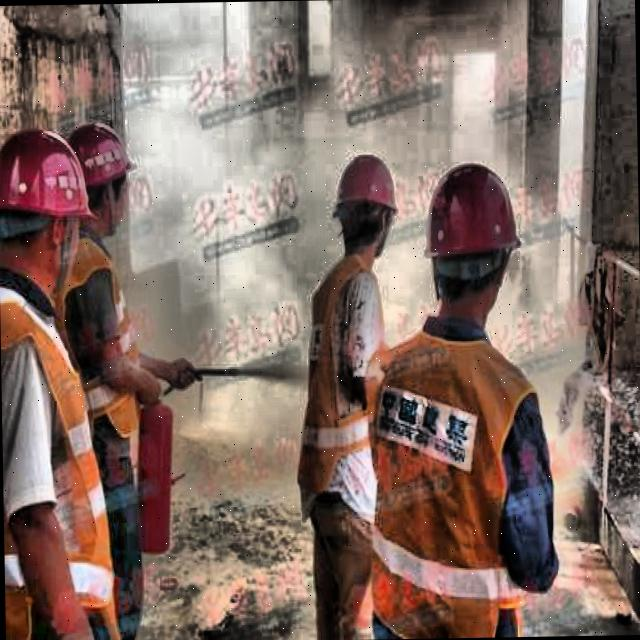helmet: (420, 154, 528, 332), (5, 116, 100, 280), (327, 147, 402, 264), (68, 110, 141, 228)
